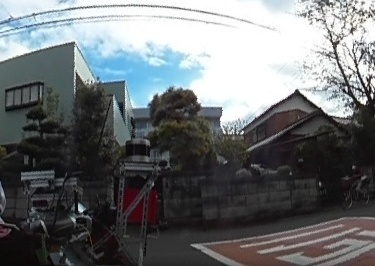person: (350, 161, 368, 194)
